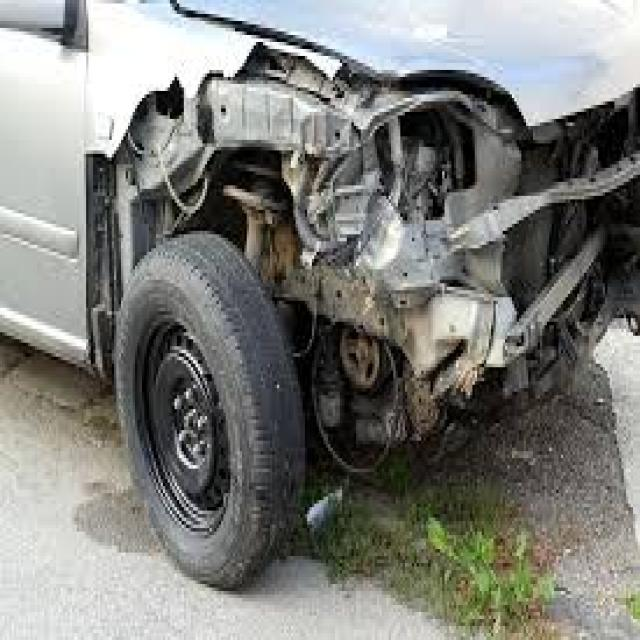Severe Damage: (225, 33, 638, 443)
